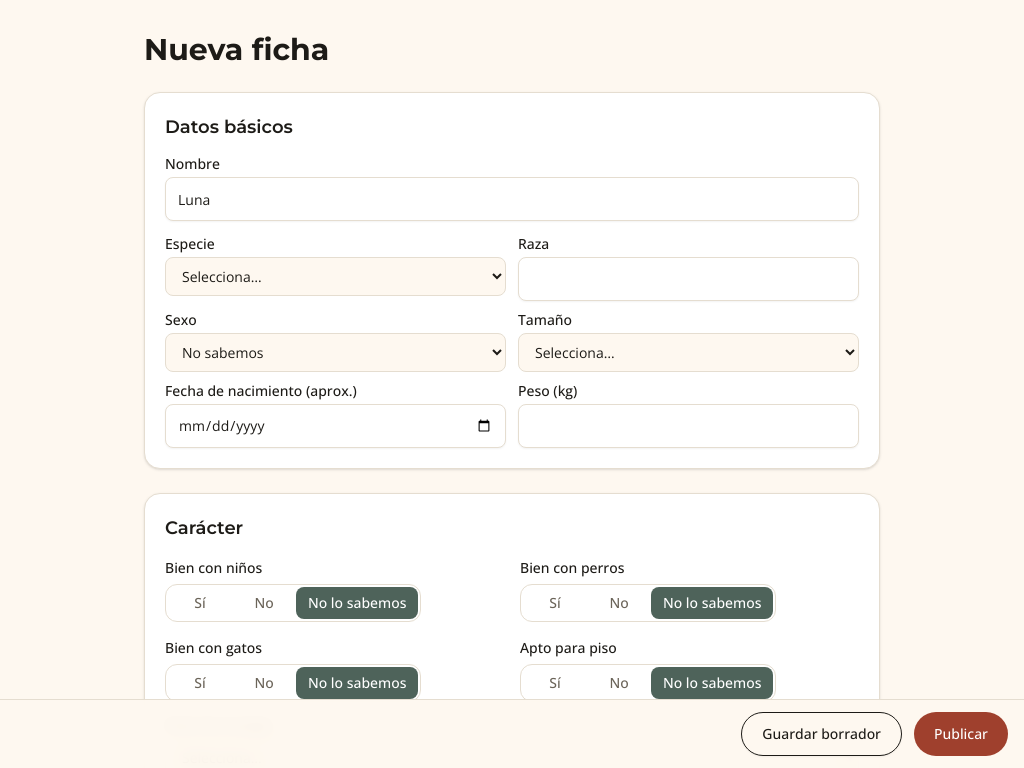
Test: AnimalForm › rechaza al guardar un vídeo de YouTube que no se puede incrustar
Click the button "Guardar borrador". click: (822, 734)
box: x1=741 y1=712 x2=902 y2=756
(page scrolled)
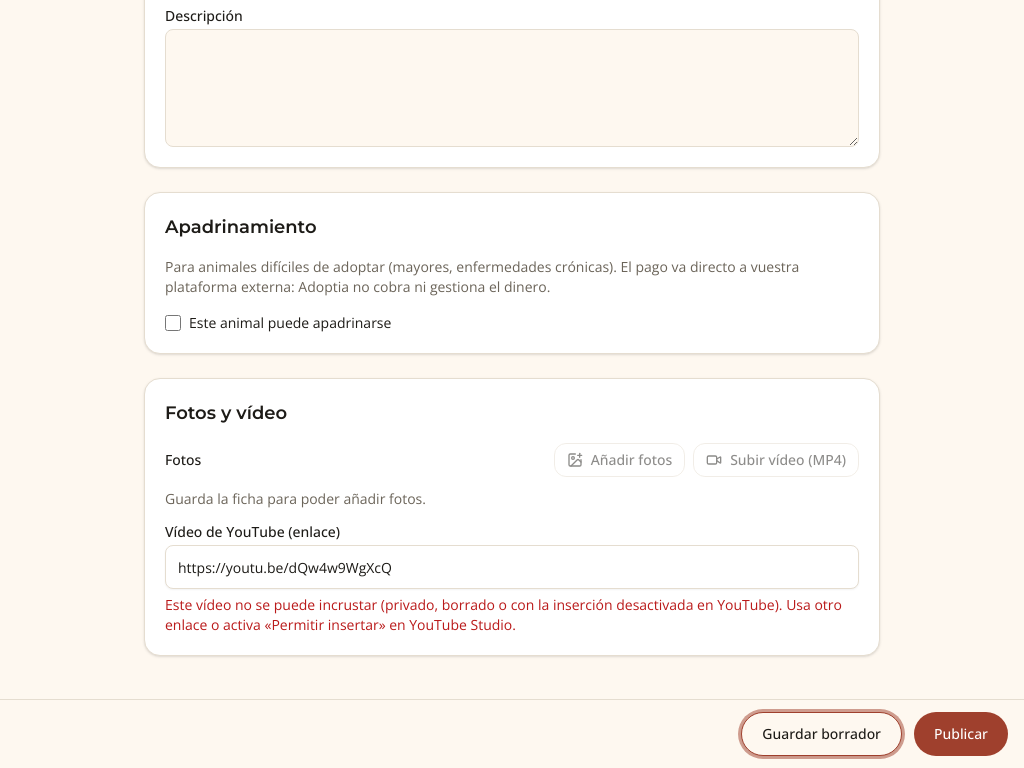
expect the text "Este vídeo no se puede incrustar (privado, borrado o con la inserción desactivada en YouTube). Usa otro enlace o activa " is shown: met, box x1=165 y1=595 x2=842 y2=634
